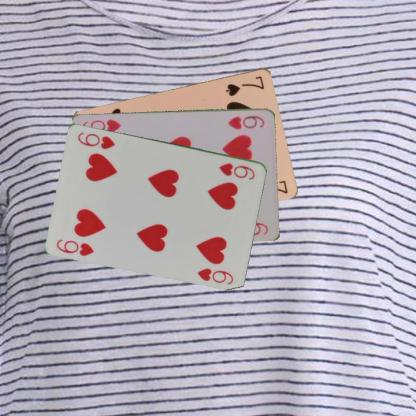6h: (216, 160, 257, 181), (54, 236, 95, 257), (225, 113, 266, 130)
7s: (223, 73, 266, 97)
